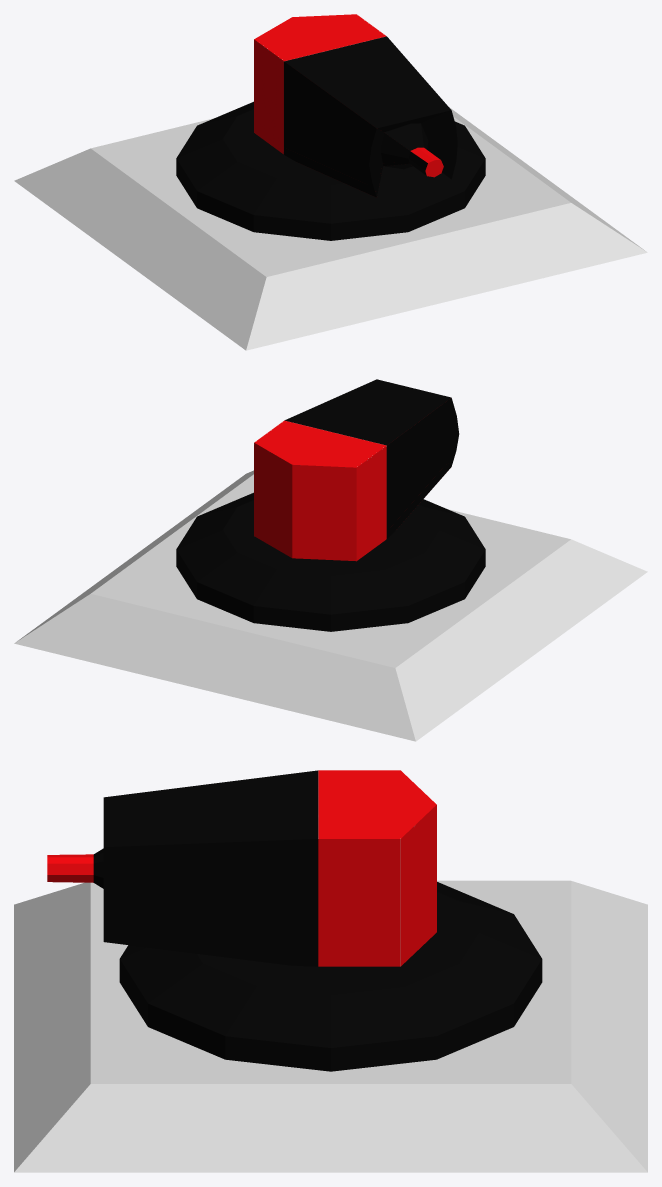
The model's file is LaserConMaterial.fbx.
3 renders of one model, top to bottom at view 1: azimuth 30°, elevation 25°; view 2: azimuth 150°, elevation 25°; view 3: azimuth 270°, elevation 25°, orthographic. The views are drawn at different scales.
Visible parts, largest first — view 1: BaseCuadrada, Cabeza, BaseRedonda; view 2: BaseCuadrada, Cabeza, BaseRedonda; view 3: BaseCuadrada, Cabeza, BaseRedonda.
Boxes of the visible parts, x1,y1,x2,y2 form: BaseCuadrada: [14, 107, 647, 350]; Cabeza: [254, 14, 457, 197]; BaseRedonda: [176, 101, 485, 240]; BaseCuadrada: [14, 470, 647, 741]; Cabeza: [254, 379, 459, 561]; BaseRedonda: [176, 492, 485, 631]; BaseCuadrada: [14, 880, 647, 1172]; Cabeza: [47, 770, 436, 966]; BaseRedonda: [119, 882, 542, 1071].
Size of the model in its own units: 150 by 61.08 by 150.
